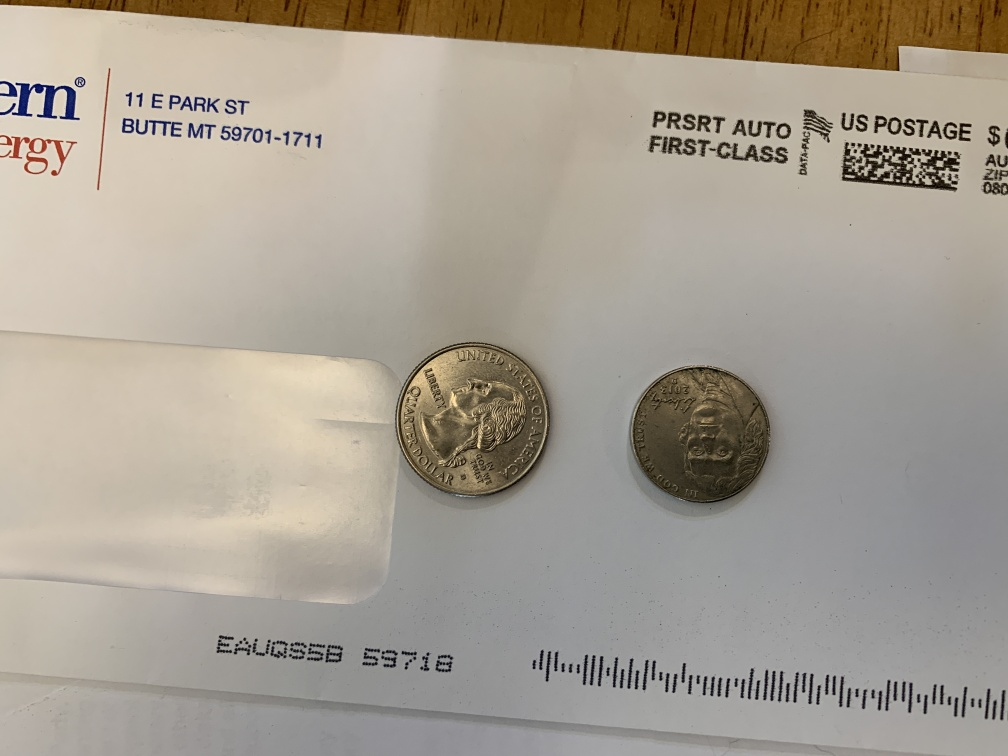quarter: (391, 334, 557, 509), (626, 362, 774, 511)
